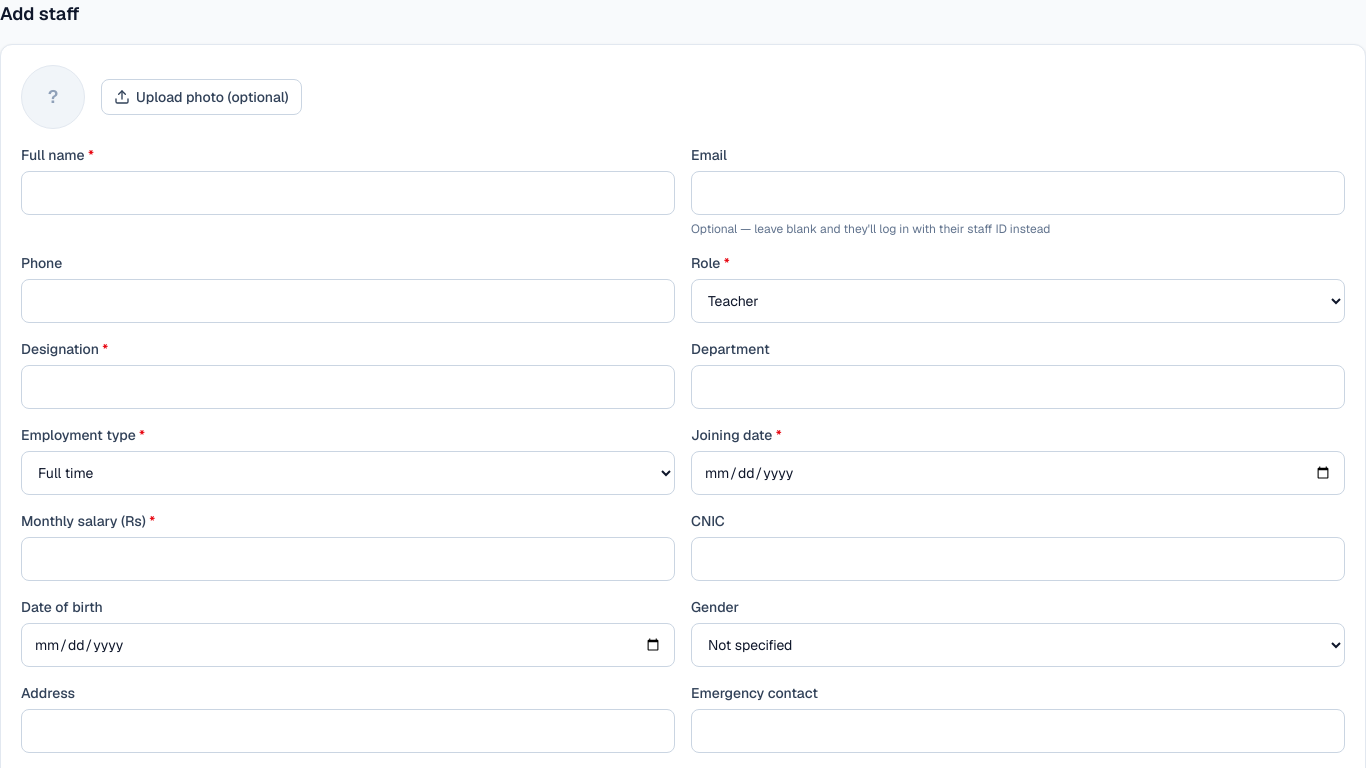
NewStaffPage › admits a TEACHER with no email, and shows the generated login ID afterward
The image size is (1366, 768).
Type "Bilal Ahmed" into the field labelled "Full name *" at (348, 193), box [21,171,675,215]
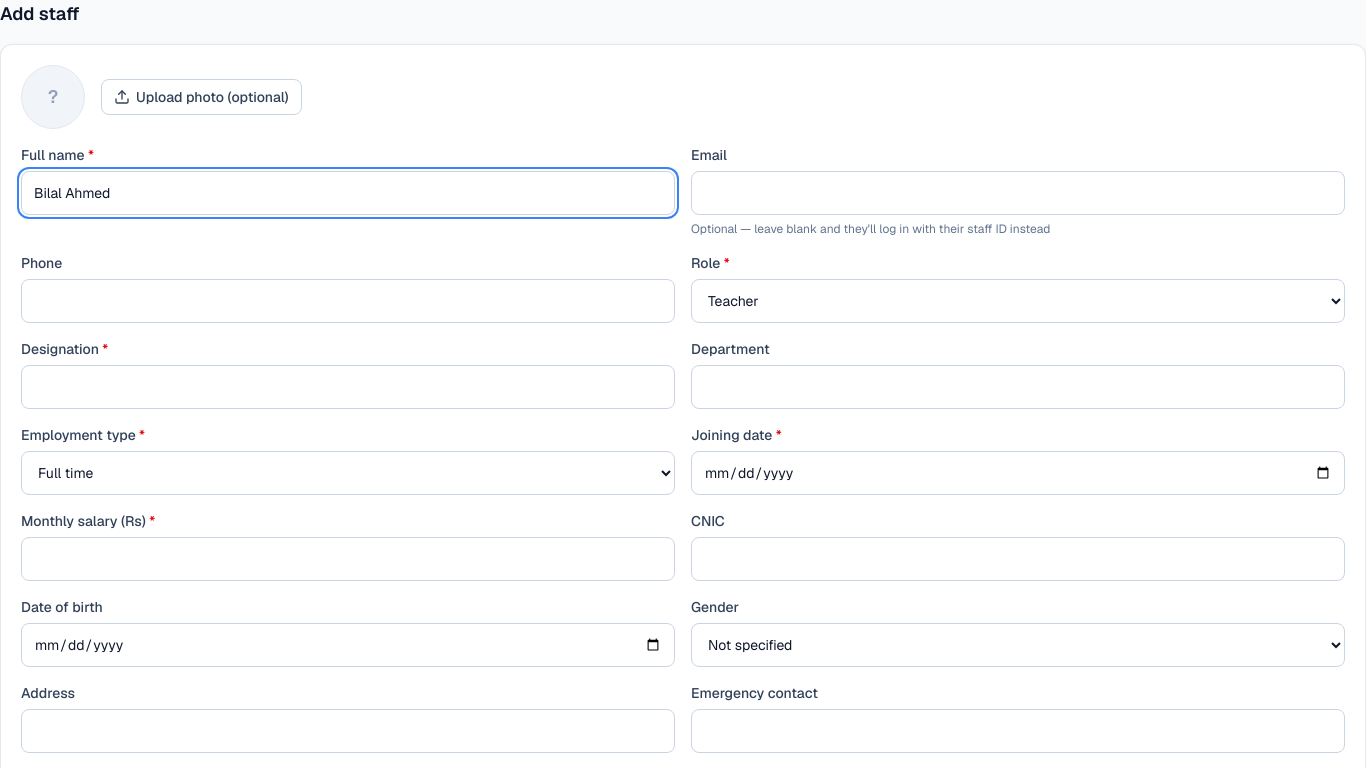
Type "Senior Teacher" into the field labelled "Designation *" at (348, 387), box [21,365,675,409]
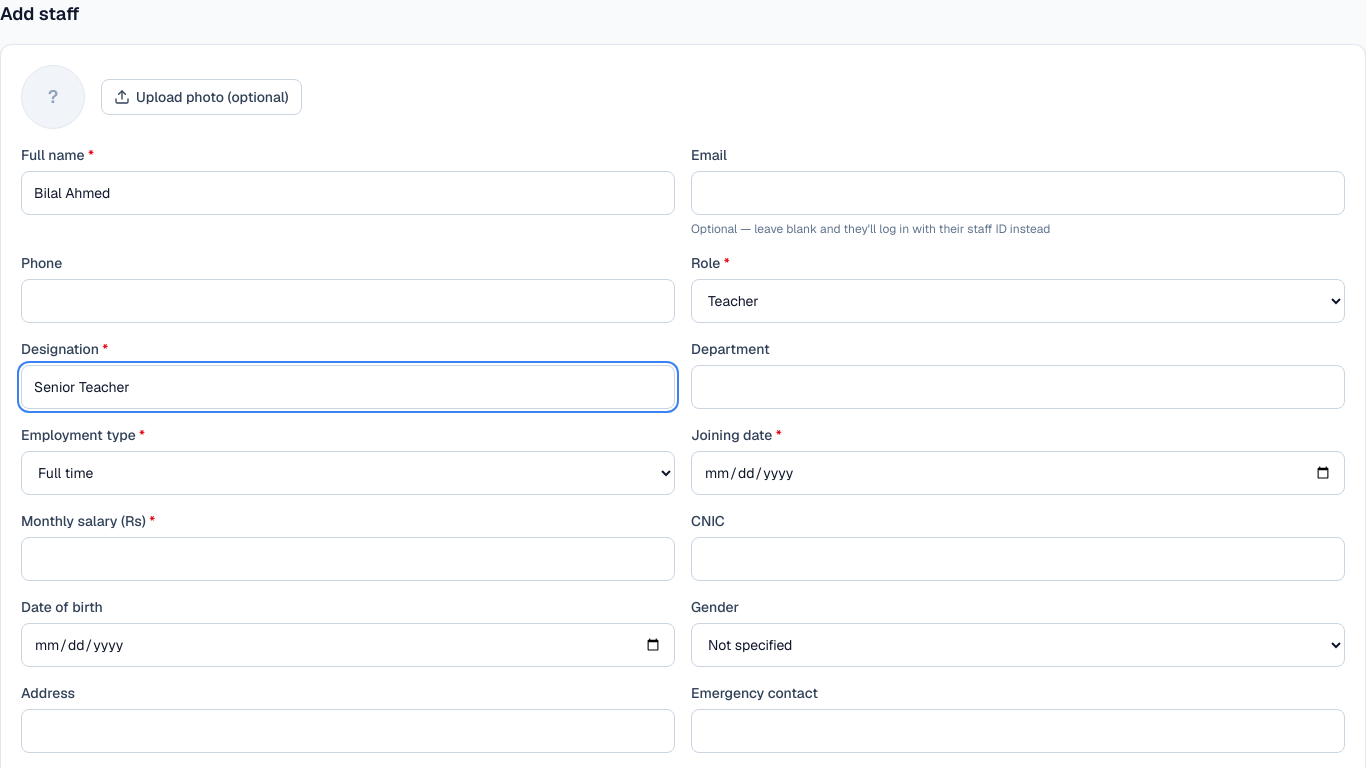
Type "2026-01-15" into the date field labelled "Joining date *" at (1018, 473), box [691,451,1345,495]
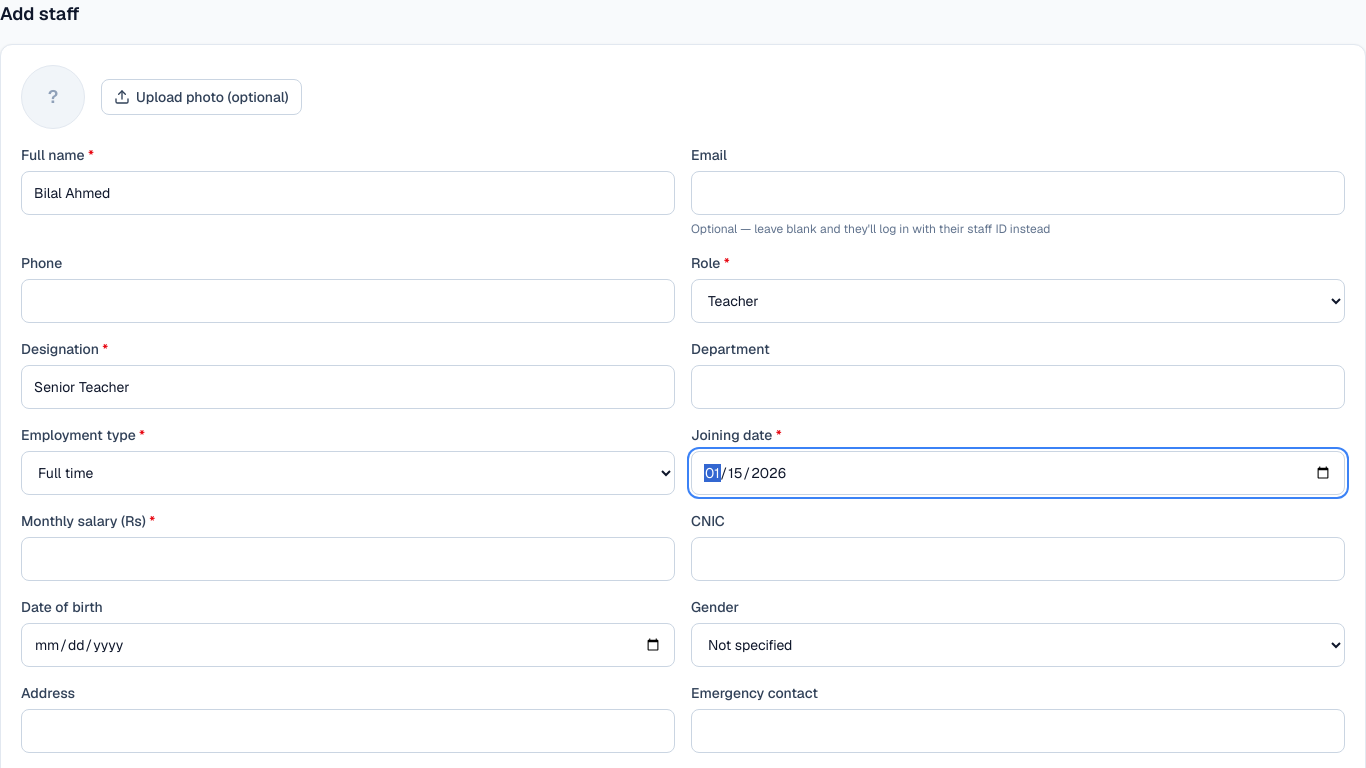
Type "60000" into the number field labelled "Monthly salary (Rs) *" at (348, 559), box [21,537,675,581]
(page scrolled)
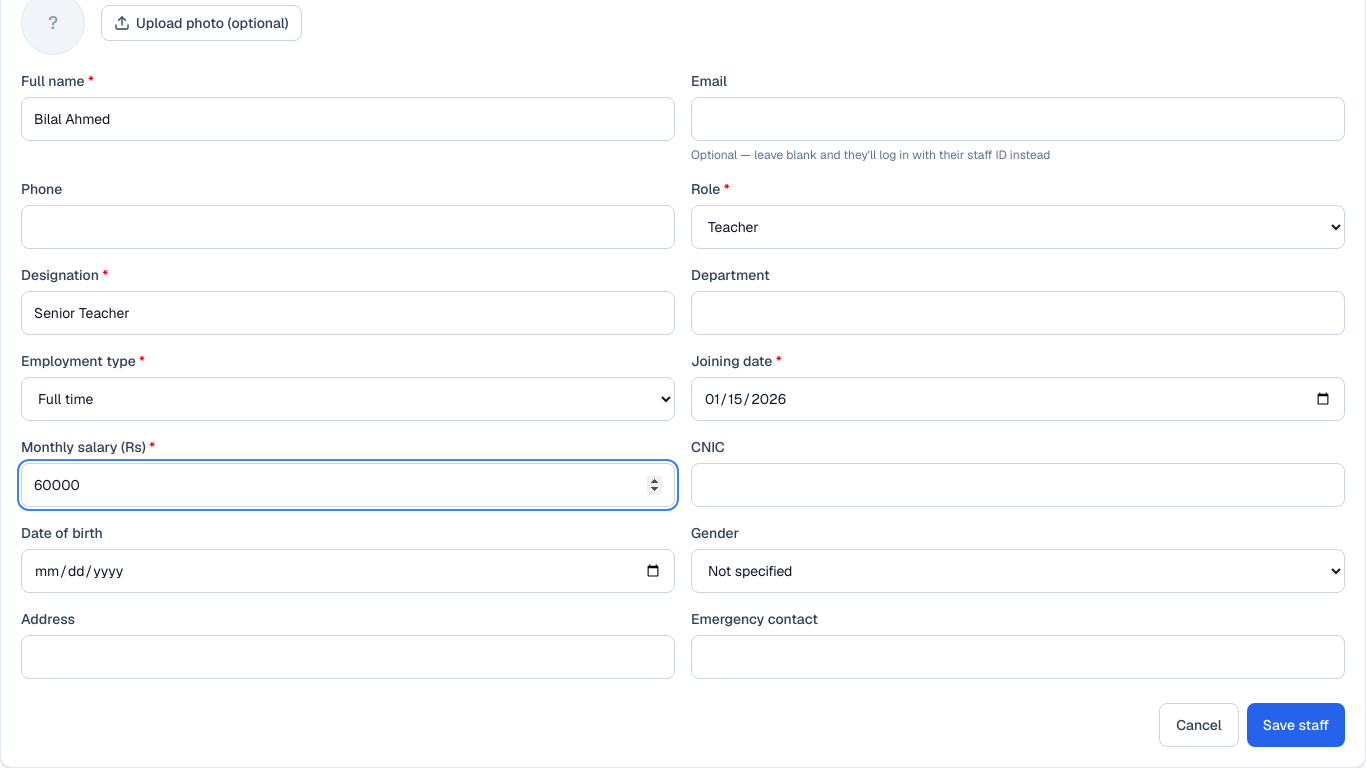
Click the button "Save staff" at (1296, 725), box [1247,703,1345,747]
(page scrolled)
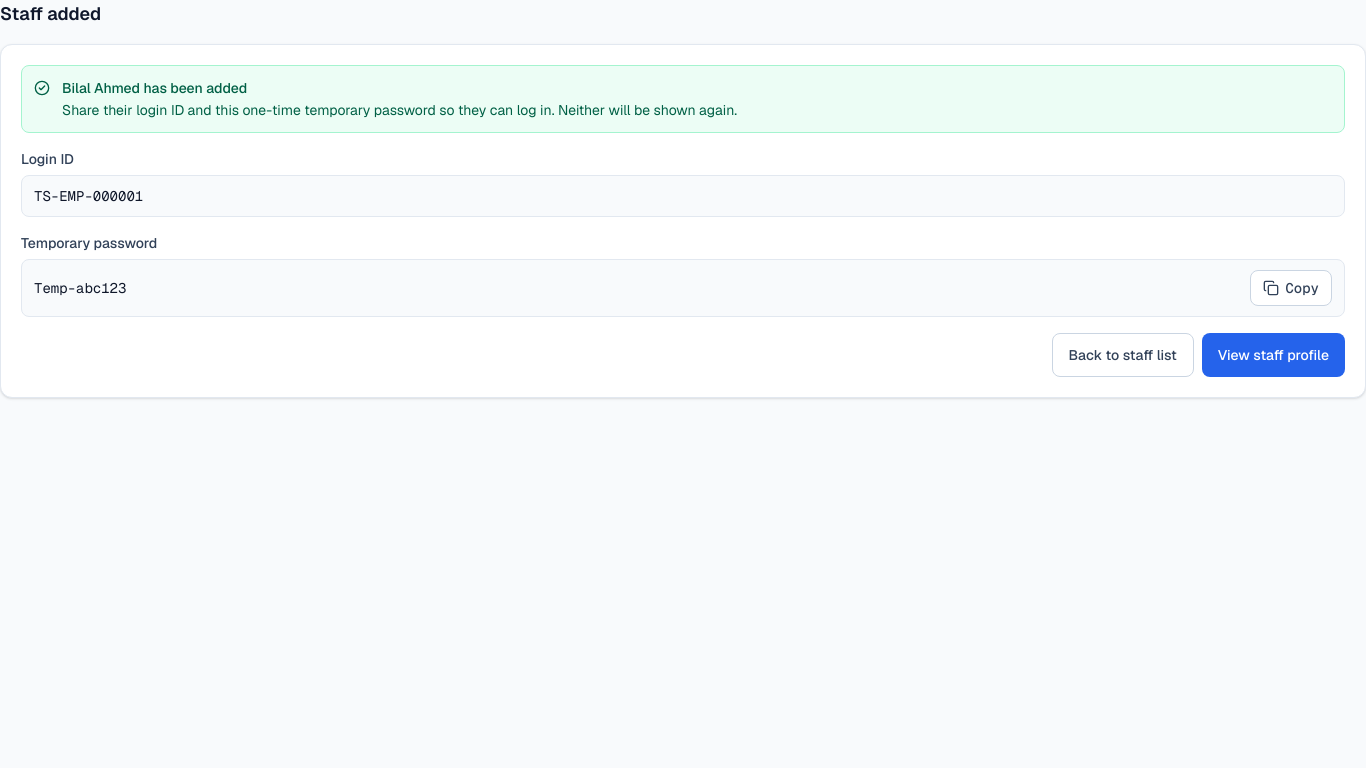
Check: the text "Login ID" is shown, box [21,150,74,168]
Check: the text "TS-EMP-000001" is shown, box [34,187,143,205]
